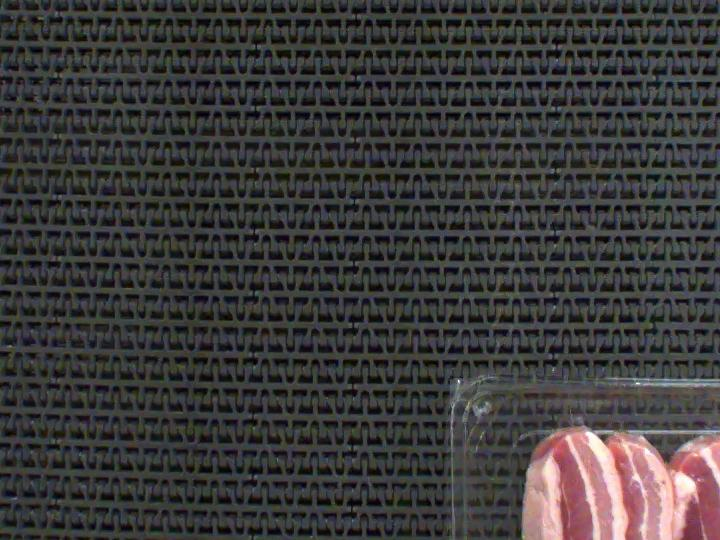packaging-error: (550, 399, 584, 432)
